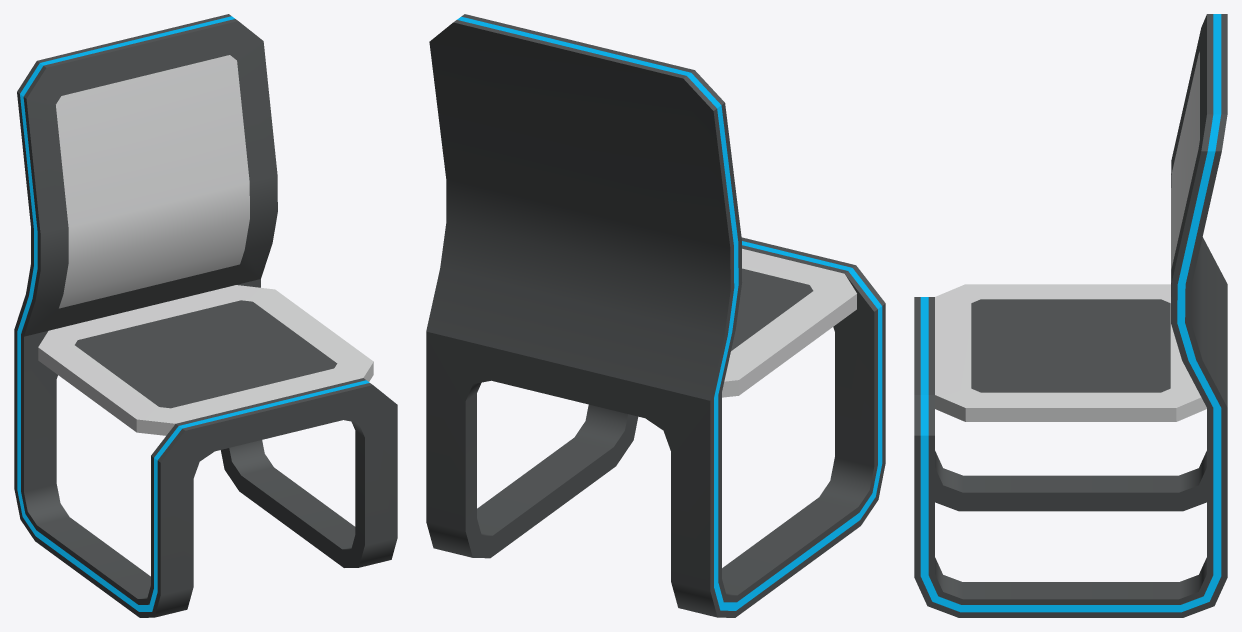
File: Chair_002.glb
3 views of the same model, side by side, from view 1: azimuth 30°, elevation 25°; view 2: azimuth 150°, elevation 25°; view 3: azimuth 270°, elevation 25° (orthographic). The views are drawn at different scales.
Visible parts, largest first — view 1: Chair_002; view 2: Chair_002; view 3: Chair_002.
Boxes of the visible parts, bbox=[...] form: Chair_002: bbox=[14, 14, 397, 617]; Chair_002: bbox=[426, 14, 885, 617]; Chair_002: bbox=[914, 14, 1227, 617].
Size of the model in its own units: 0.526 by 0.9746 by 0.5624.
2 materials, 2 textured.
